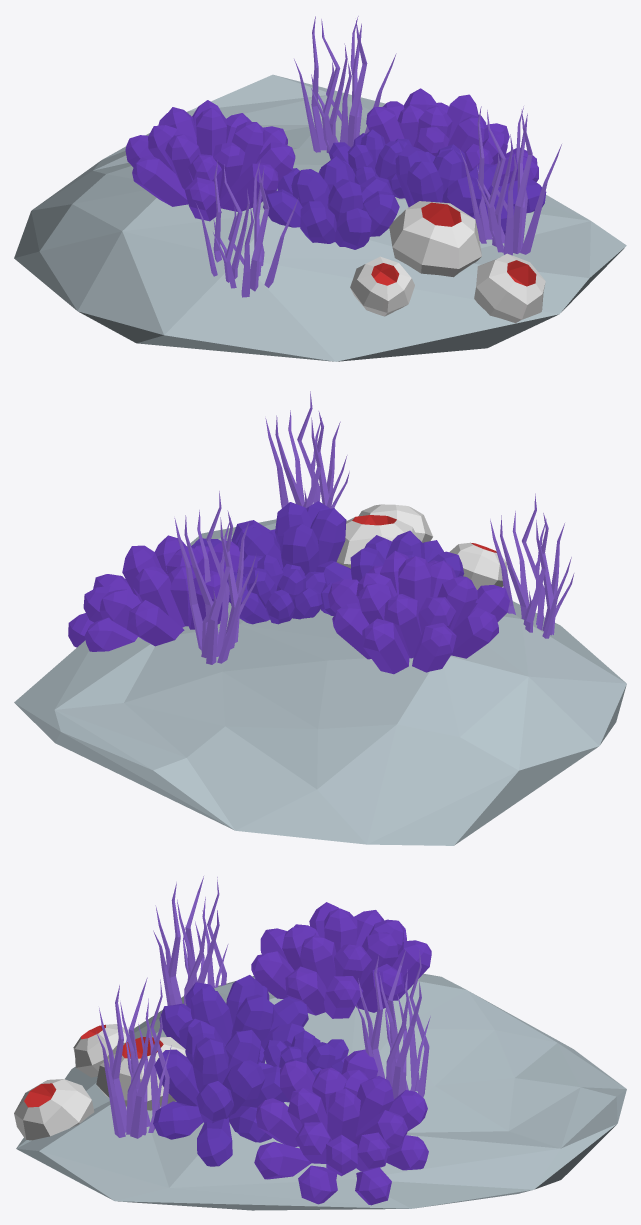
The model's file is Coralls_015.glb.
The picture shows the model from 3 angles, top to bottom: view 1: azimuth 30°, elevation 25°; view 2: azimuth 150°, elevation 25°; view 3: azimuth 270°, elevation 25°; orthographic projection. The views are drawn at different scales.
Parts seen in each view (by area): view 1: Coralls_015; view 2: Coralls_015; view 3: Coralls_015.
Boxes of the visible parts, x1=… form: Coralls_015: x1=14, y1=16, x2=626, y2=361; Coralls_015: x1=14, y1=391, x2=626, y2=845; Coralls_015: x1=14, y1=876, x2=626, y2=1210.
Bounding box in the file's own units: 1.94 × 0.9664 × 2.14.
Materials: 2 (2 with a texture image).
